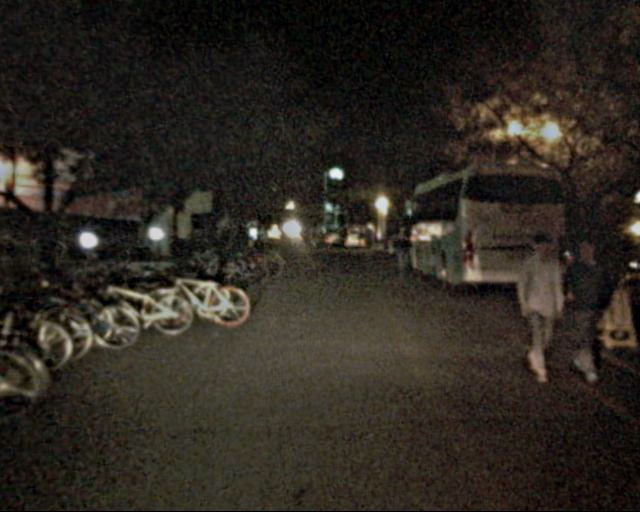person: (554, 236, 613, 381), (508, 233, 567, 378), (389, 224, 416, 290), (254, 226, 268, 261)
